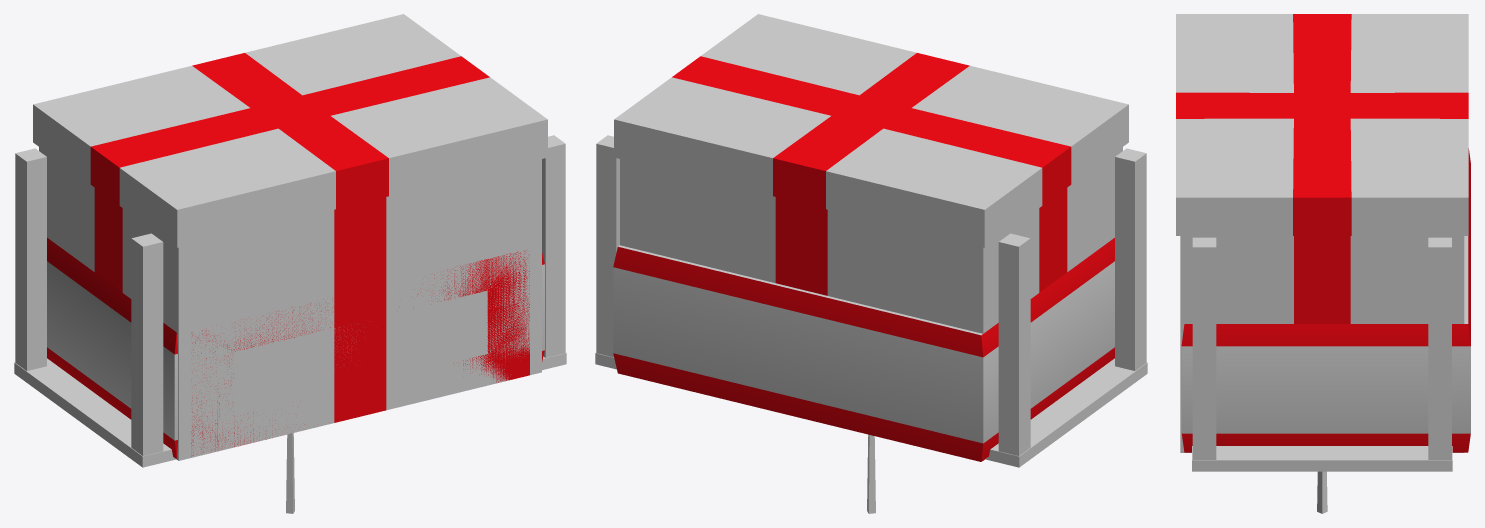
The model's file is LittleToys.fbx.
3 renders of one model, left to right at view 1: azimuth 30°, elevation 25°; view 2: azimuth 150°, elevation 25°; view 3: azimuth 270°, elevation 25°, orthographic.
Visible parts, largest first — view 1: Present, Table, Radio, Chest, Umbrella; view 2: Present, Radio, Table, Umbrella; view 3: Present, Radio, Table, Umbrella.
Boxes of the visible parts, bbox=[...] form: Present: bbox=[33, 14, 547, 460]; Table: bbox=[14, 135, 566, 467]; Radio: bbox=[47, 238, 544, 458]; Chest: bbox=[191, 250, 529, 456]; Umbrella: bbox=[286, 433, 294, 513]; Present: bbox=[614, 14, 1128, 460]; Radio: bbox=[613, 238, 1114, 461]; Table: bbox=[595, 135, 1147, 467]; Umbrella: bbox=[867, 434, 875, 513]; Present: bbox=[1176, 14, 1468, 452]; Radio: bbox=[1181, 148, 1470, 452]; Table: bbox=[1192, 237, 1452, 471]; Umbrella: bbox=[1317, 471, 1327, 513].
Bounding box in the file's own units: 208 × 316 × 350.
